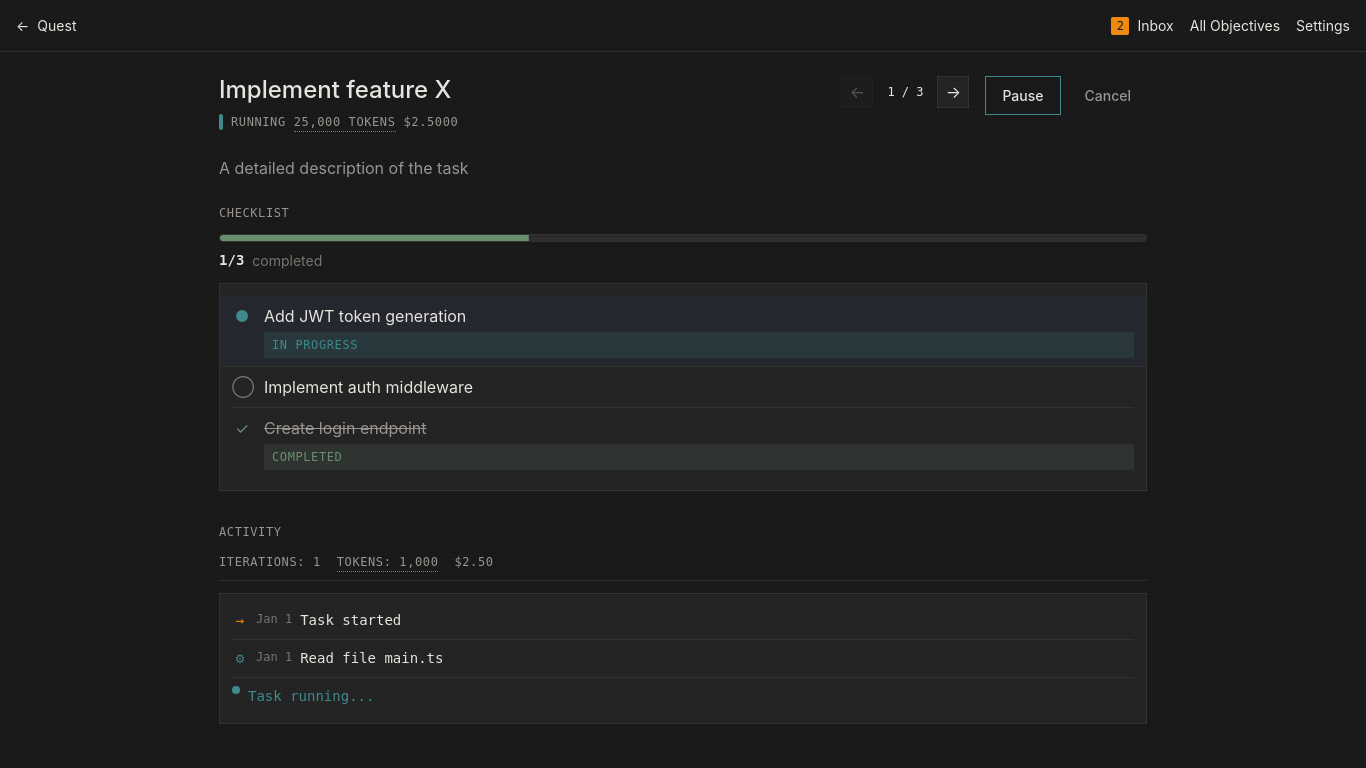
ObjectiveDetail › task actions › cancel confirmation › shows confirmation modal on Cancel click
Click the button "Cancel": [1108, 96] box [1068, 76, 1147, 115]
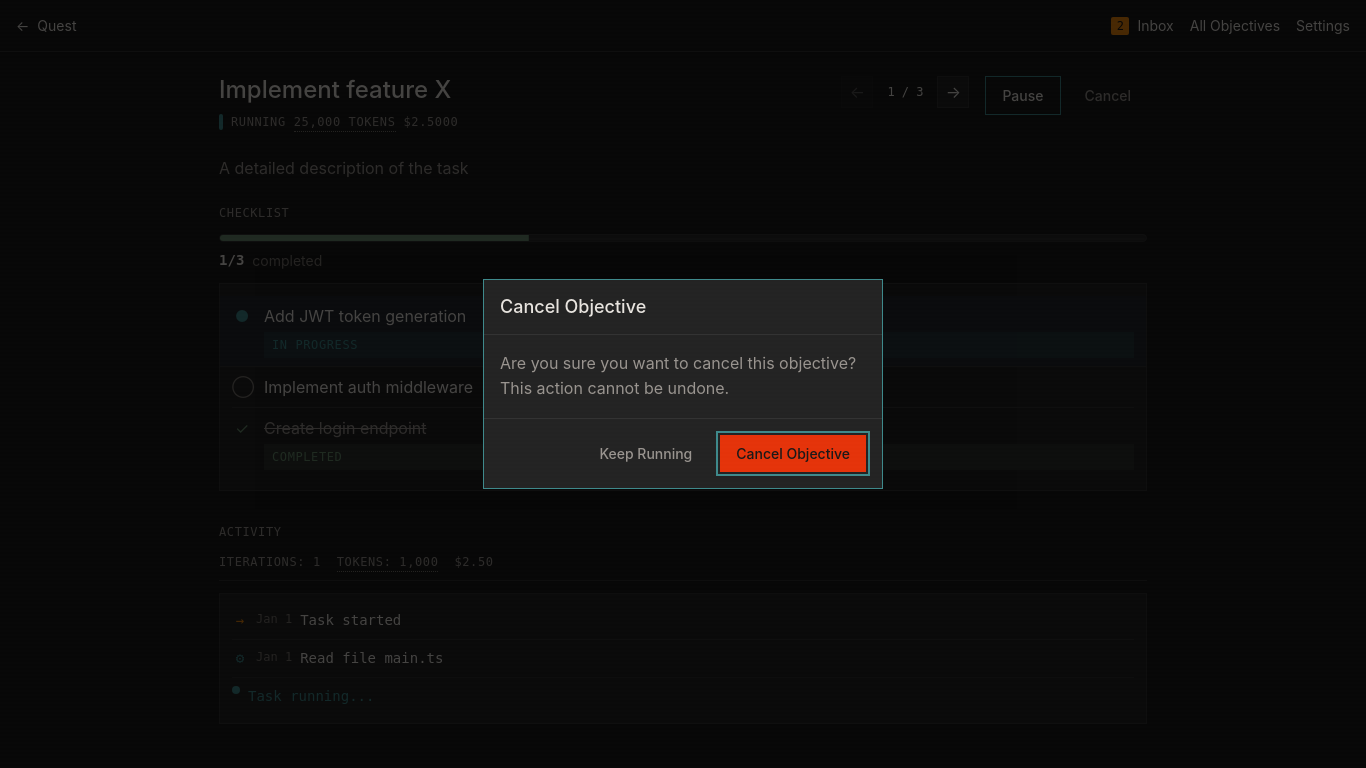
expect the heading "Cancel Objective" is shown: met, box [500, 296, 646, 318]
expect the text "Are you sure you want to cancel" is shown: met, box [500, 353, 856, 398]
